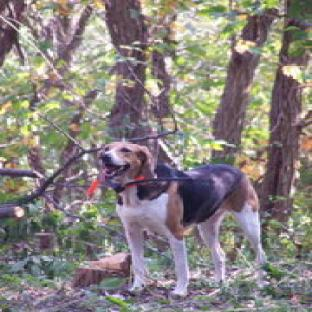Animal: (99, 142, 263, 295)
